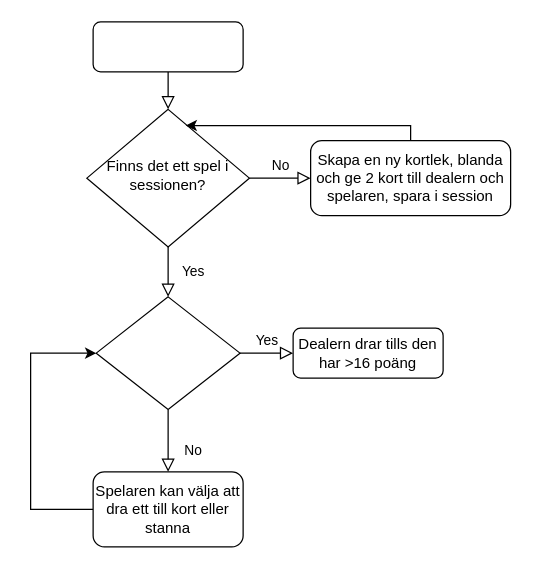
Image size: 533x569. Some labels were removed from this diagram. The box of each missing label's shape, as (x1, y1, x2, y2) in pixels:
BlackJack: (92, 21, 243, 72)
Har spelaren stannat eller >20 poäng?: (95, 296, 240, 409)
